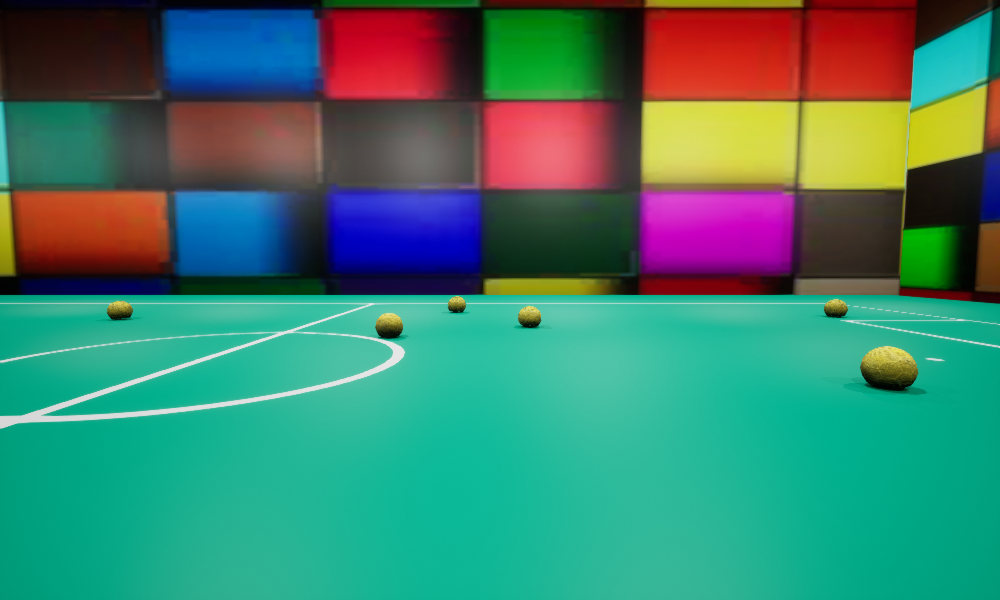b: (860, 346, 917, 389), (375, 313, 402, 337), (518, 306, 540, 327), (107, 301, 132, 319), (824, 299, 847, 316), (448, 296, 465, 312)
